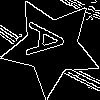A: (26, 21, 75, 61)
